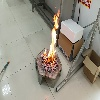fire: (43, 7, 60, 66)
